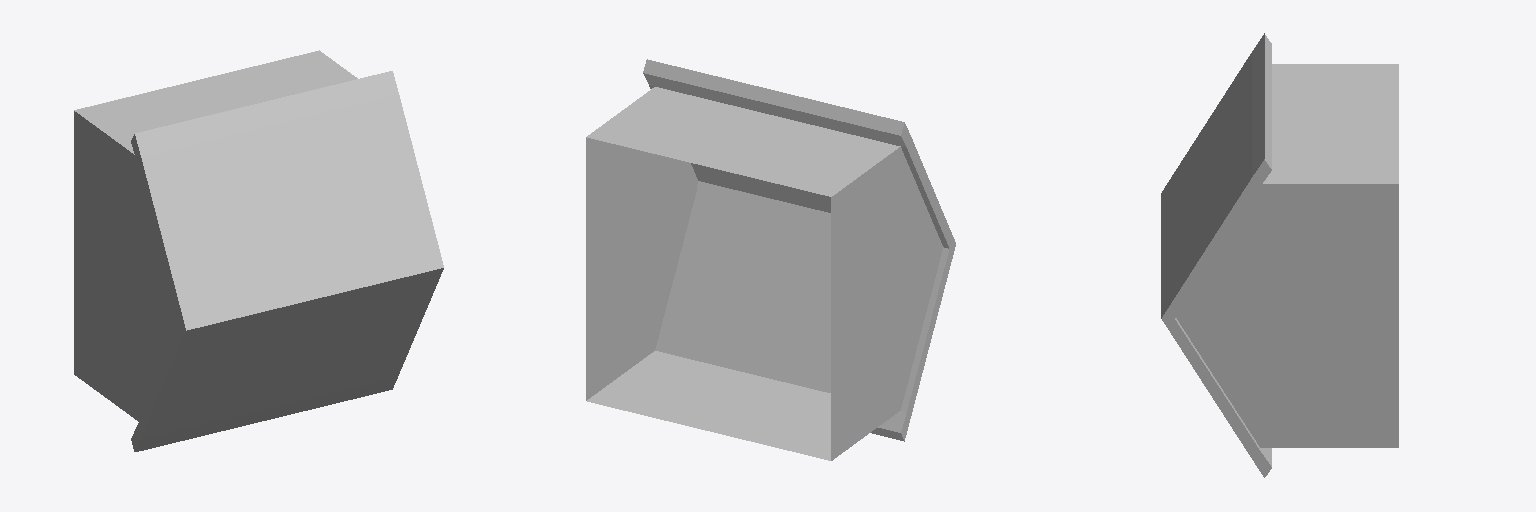
The model's file is tower22.obj.
3 views of the same model, side by side, from view 1: azimuth 30°, elevation 25°; view 2: azimuth 150°, elevation 25°; view 3: azimuth 270°, elevation 25° (orthographic).
Parts seen in each view (by area): view 1: tower22; view 2: tower22; view 3: tower22.
Boxes of the visible parts, x1,y1,x2,y2 form: tower22: [74, 50, 443, 451]; tower22: [586, 59, 955, 460]; tower22: [1161, 33, 1398, 477].
Bounding box in the file's own units: 15.04 × 17.78 × 11.97.